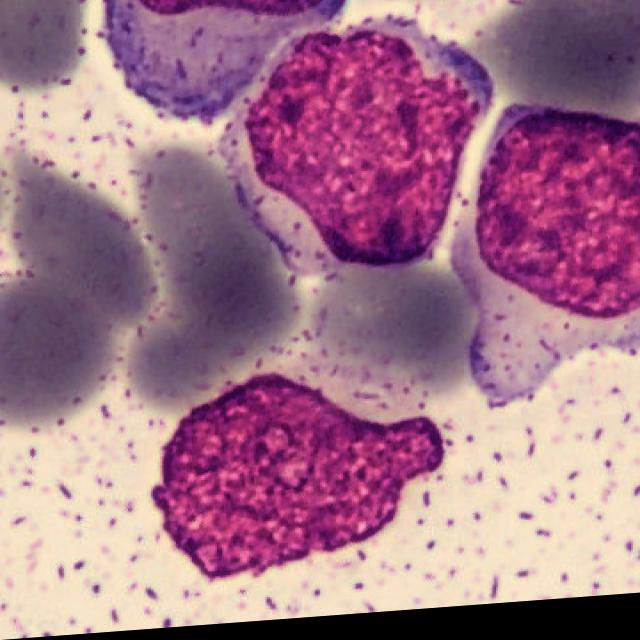Mieloblasto: (219, 27, 492, 281), (151, 375, 444, 583), (453, 111, 640, 411)
